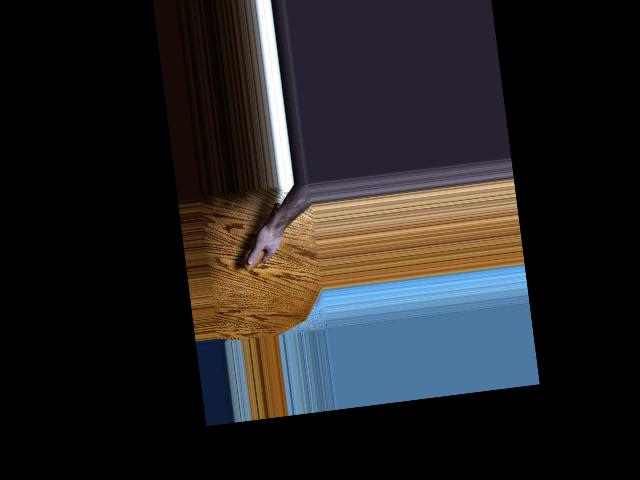sweet_potato: (234, 201, 287, 272)
